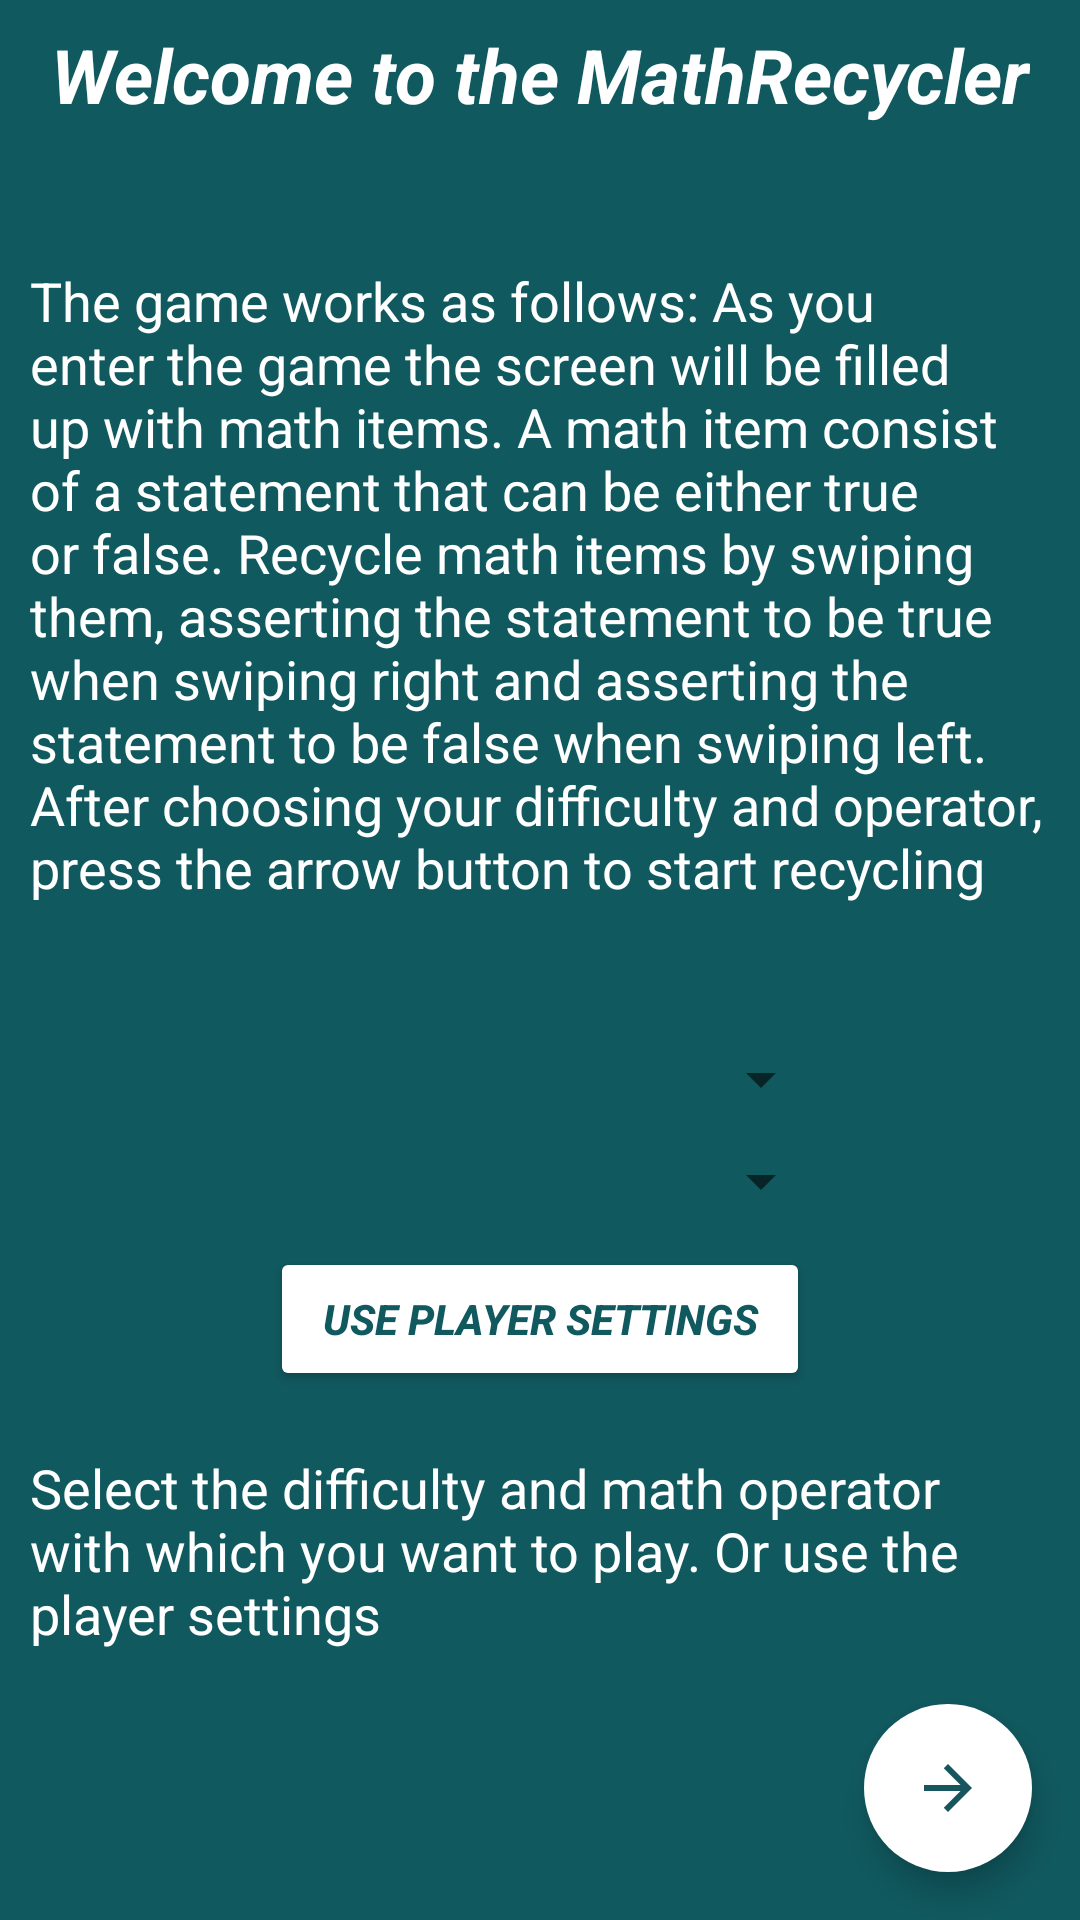

Point at icon controls on the screen. Image size 1080x1920, points as point (x, y).
arrow forward: point (948, 1788)
